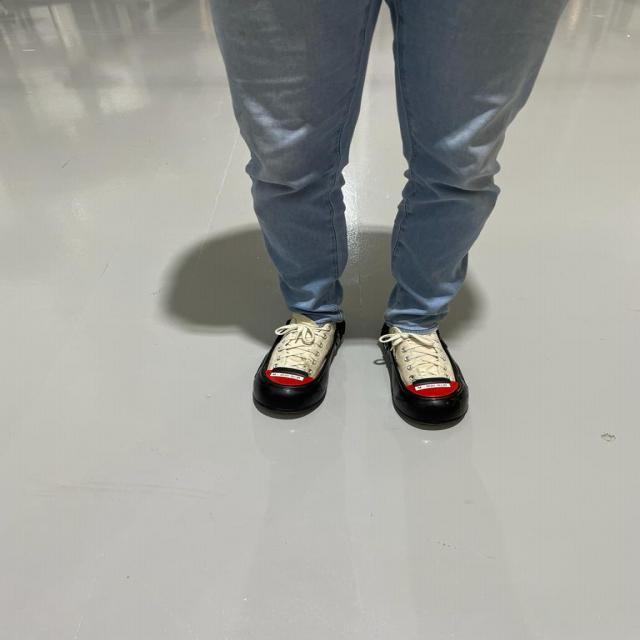shoes: (245, 310, 345, 423), (378, 316, 471, 431)
